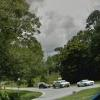Tree: (54, 6, 100, 79)
